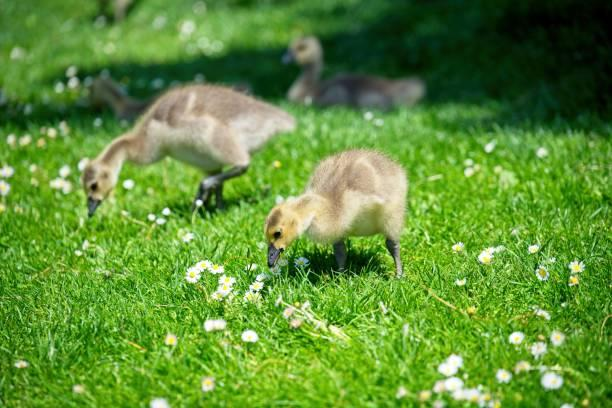Canadian-Goose: (78, 81, 296, 215), (262, 150, 411, 282), (283, 37, 425, 111)
